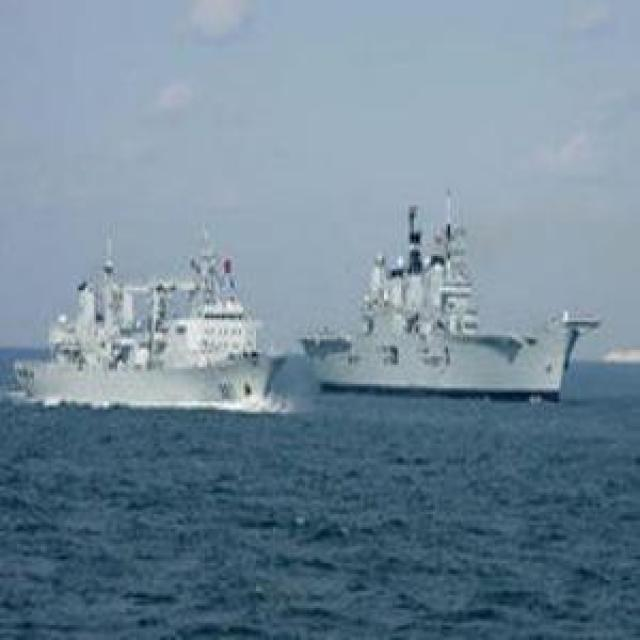navalvessels: (279, 196, 584, 409), (19, 238, 326, 416)
